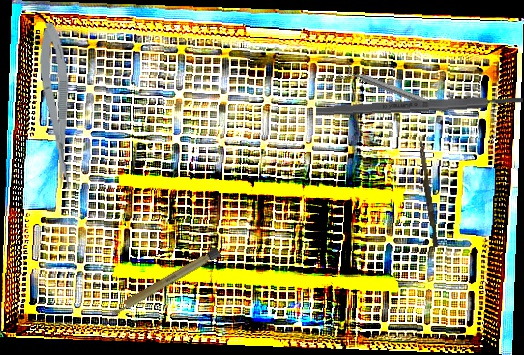Fixation Ring: (337, 60, 450, 120)
Micro Scissor: (36, 21, 77, 191)
Pusher: (413, 136, 442, 248)
Scalpel Handle: (108, 246, 222, 318), (315, 93, 524, 118)
